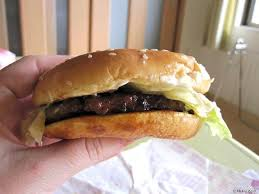hamburger: (31, 48, 226, 145)
